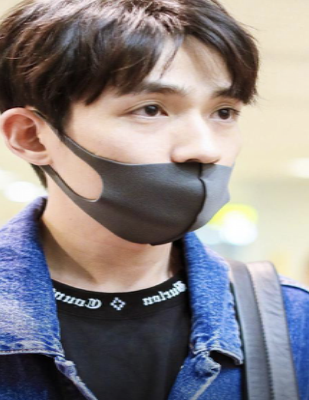mask_weared_incorrect: (72, 80, 246, 247)
